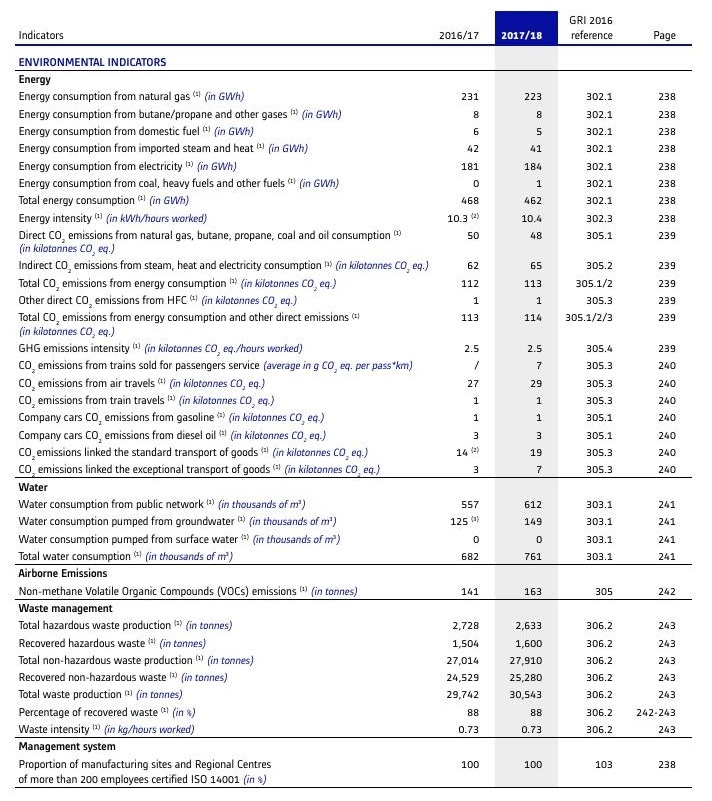table: (0, 0, 712, 801)
